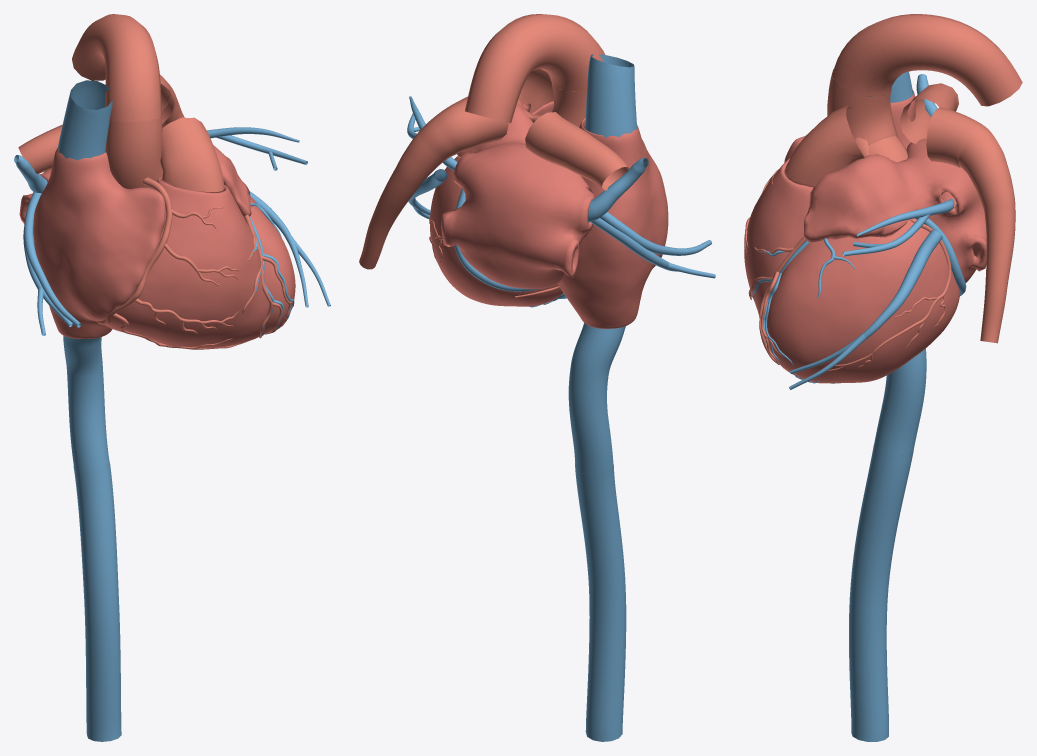
File: heart.glb
3 views of the same model, side by side, from view 1: azimuth 30°, elevation 25°; view 2: azimuth 150°, elevation 25°; view 3: azimuth 270°, elevation 25° (orthographic). The views are drawn at different scales.
Parts seen in each view (by area): view 1: Right atrium.001, Right ventricle.001, Inferior vena cava (abdominal part).001, Aortic arch.001, Inferior vena cava (thoracic part).001, Pulmonary trunk.001, Ascending aorta.001, Superior vena cava.001, Right coronary artery.001, Left ventricle.001, Medial vein of right lung.001, Left atrium.001 (+7 smaller); view 2: Left atrium.001, Right atrium.001, Inferior vena cava (abdominal part).001, Aortic arch.001, Left pulmonary artery.001, Inferior vena cava (thoracic part).001, Right pulmonary artery.001, Left ventricle.001, Superior vena cava.001, Medial vein of right lung.001, Right superior pulmonary vein.001, Pulmonary trunk.001 (+2 smaller); view 3: Left ventricle.001, Left atrium.001, Inferior vena cava (abdominal part).001, Aortic arch.001, Left pulmonary artery.001, Right ventricle.001, Inferior vena cava (thoracic part).001, Pulmonary trunk.001, Ascending aorta.001, Inferior lingular vein of left lung.001, Right pulmonary artery.001, Anterior vein of left lung.001 (+5 smaller).
Boxes of the visible parts, box(x1,y1,x2,y2) form: Right atrium.001: box(33, 147, 165, 338); Right ventricle.001: box(99, 177, 267, 348); Inferior vena cava (abdominal part).001: box(73, 462, 121, 741); Aortic arch.001: box(72, 14, 162, 121); Inferior vena cava (thoracic part).001: box(63, 336, 109, 470); Pulmonary trunk.001: box(160, 117, 224, 192); Ascending aorta.001: box(105, 116, 163, 189); Superior vena cava.001: box(58, 80, 112, 160); Right coronary artery.001: box(97, 177, 246, 349); Left ventricle.001: box(250, 196, 295, 334); Medial vein of right lung.001: box(23, 192, 81, 335); Left atrium.001: box(19, 145, 251, 223); Left atrium.001: box(441, 103, 594, 289); Right atrium.001: box(558, 118, 668, 328); Inferior vena cava (abdominal part).001: box(575, 463, 626, 741); Aortic arch.001: box(465, 14, 605, 122); Left pulmonary artery.001: box(359, 96, 508, 269); Inferior vena cava (thoracic part).001: box(568, 323, 625, 474); Right pulmonary artery.001: box(525, 112, 630, 190); Left ventricle.001: box(430, 156, 563, 306); Superior vena cava.001: box(584, 54, 637, 138); Medial vein of right lung.001: box(590, 212, 715, 278); Right superior pulmonary vein.001: box(588, 157, 648, 222); Pulmonary trunk.001: box(517, 68, 574, 122); Left ventricle.001: box(765, 218, 960, 383); Left atrium.001: box(803, 138, 986, 282); Inferior vena cava (abdominal part).001: box(849, 444, 913, 741); Aortic arch.001: box(832, 14, 1022, 106); Left pulmonary artery.001: box(926, 107, 1015, 343); Right ventricle.001: box(744, 158, 814, 315); Inferior vena cava (thoracic part).001: box(874, 348, 926, 455); Pulmonary trunk.001: box(785, 105, 868, 185); Ascending aorta.001: box(827, 69, 907, 162); Inferior lingular vein of left lung.001: box(789, 230, 942, 389); Right pulmonary artery.001: box(900, 83, 958, 144); Anterior vein of left lung.001: box(842, 198, 954, 256).
Size of the model in its own units: 0.1552 by 0.3662 by 0.1243.
